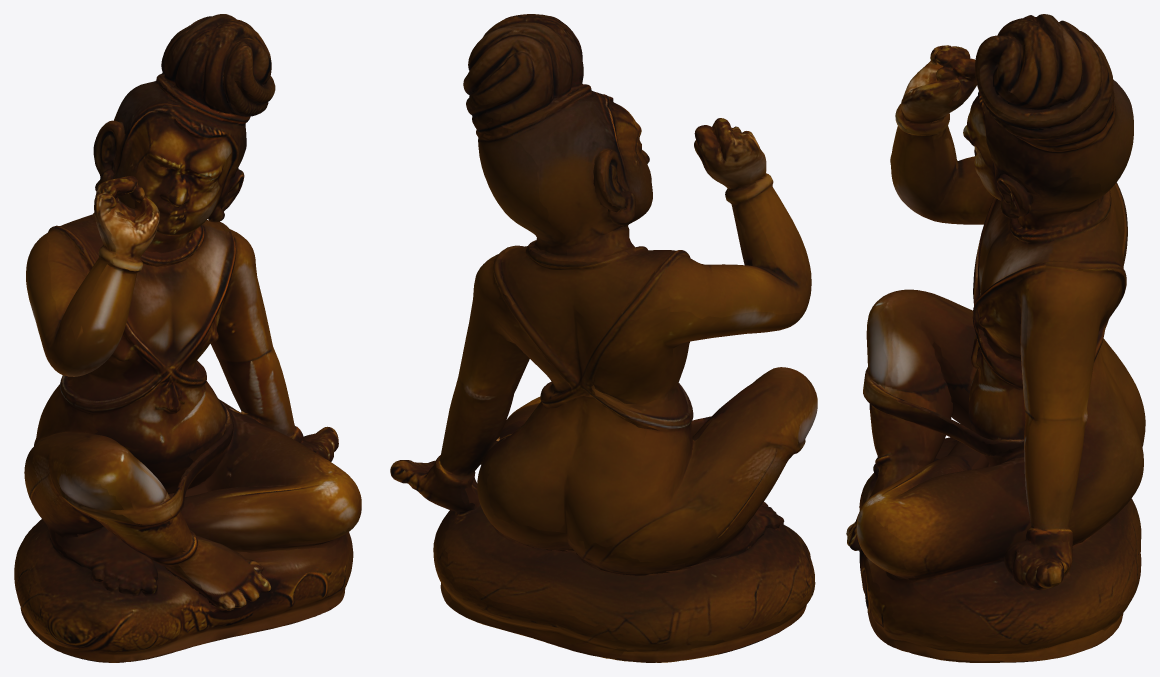
3 renders of one model, left to right at view 1: azimuth 30°, elevation 25°; view 2: azimuth 150°, elevation 25°; view 3: azimuth 270°, elevation 25°, orthographic. The views are drawn at different scales.
Parts seen in each view (by area): view 1: textured_mesh; view 2: textured_mesh; view 3: textured_mesh.
Boxes of the visible parts, x1,y1,x2,y2 form: textured_mesh: (14, 14, 361, 662); textured_mesh: (390, 14, 817, 662); textured_mesh: (846, 14, 1145, 662).
Size of the model in its own units: 1.32 by 1.99 by 0.902.
1 material, 1 textured.
